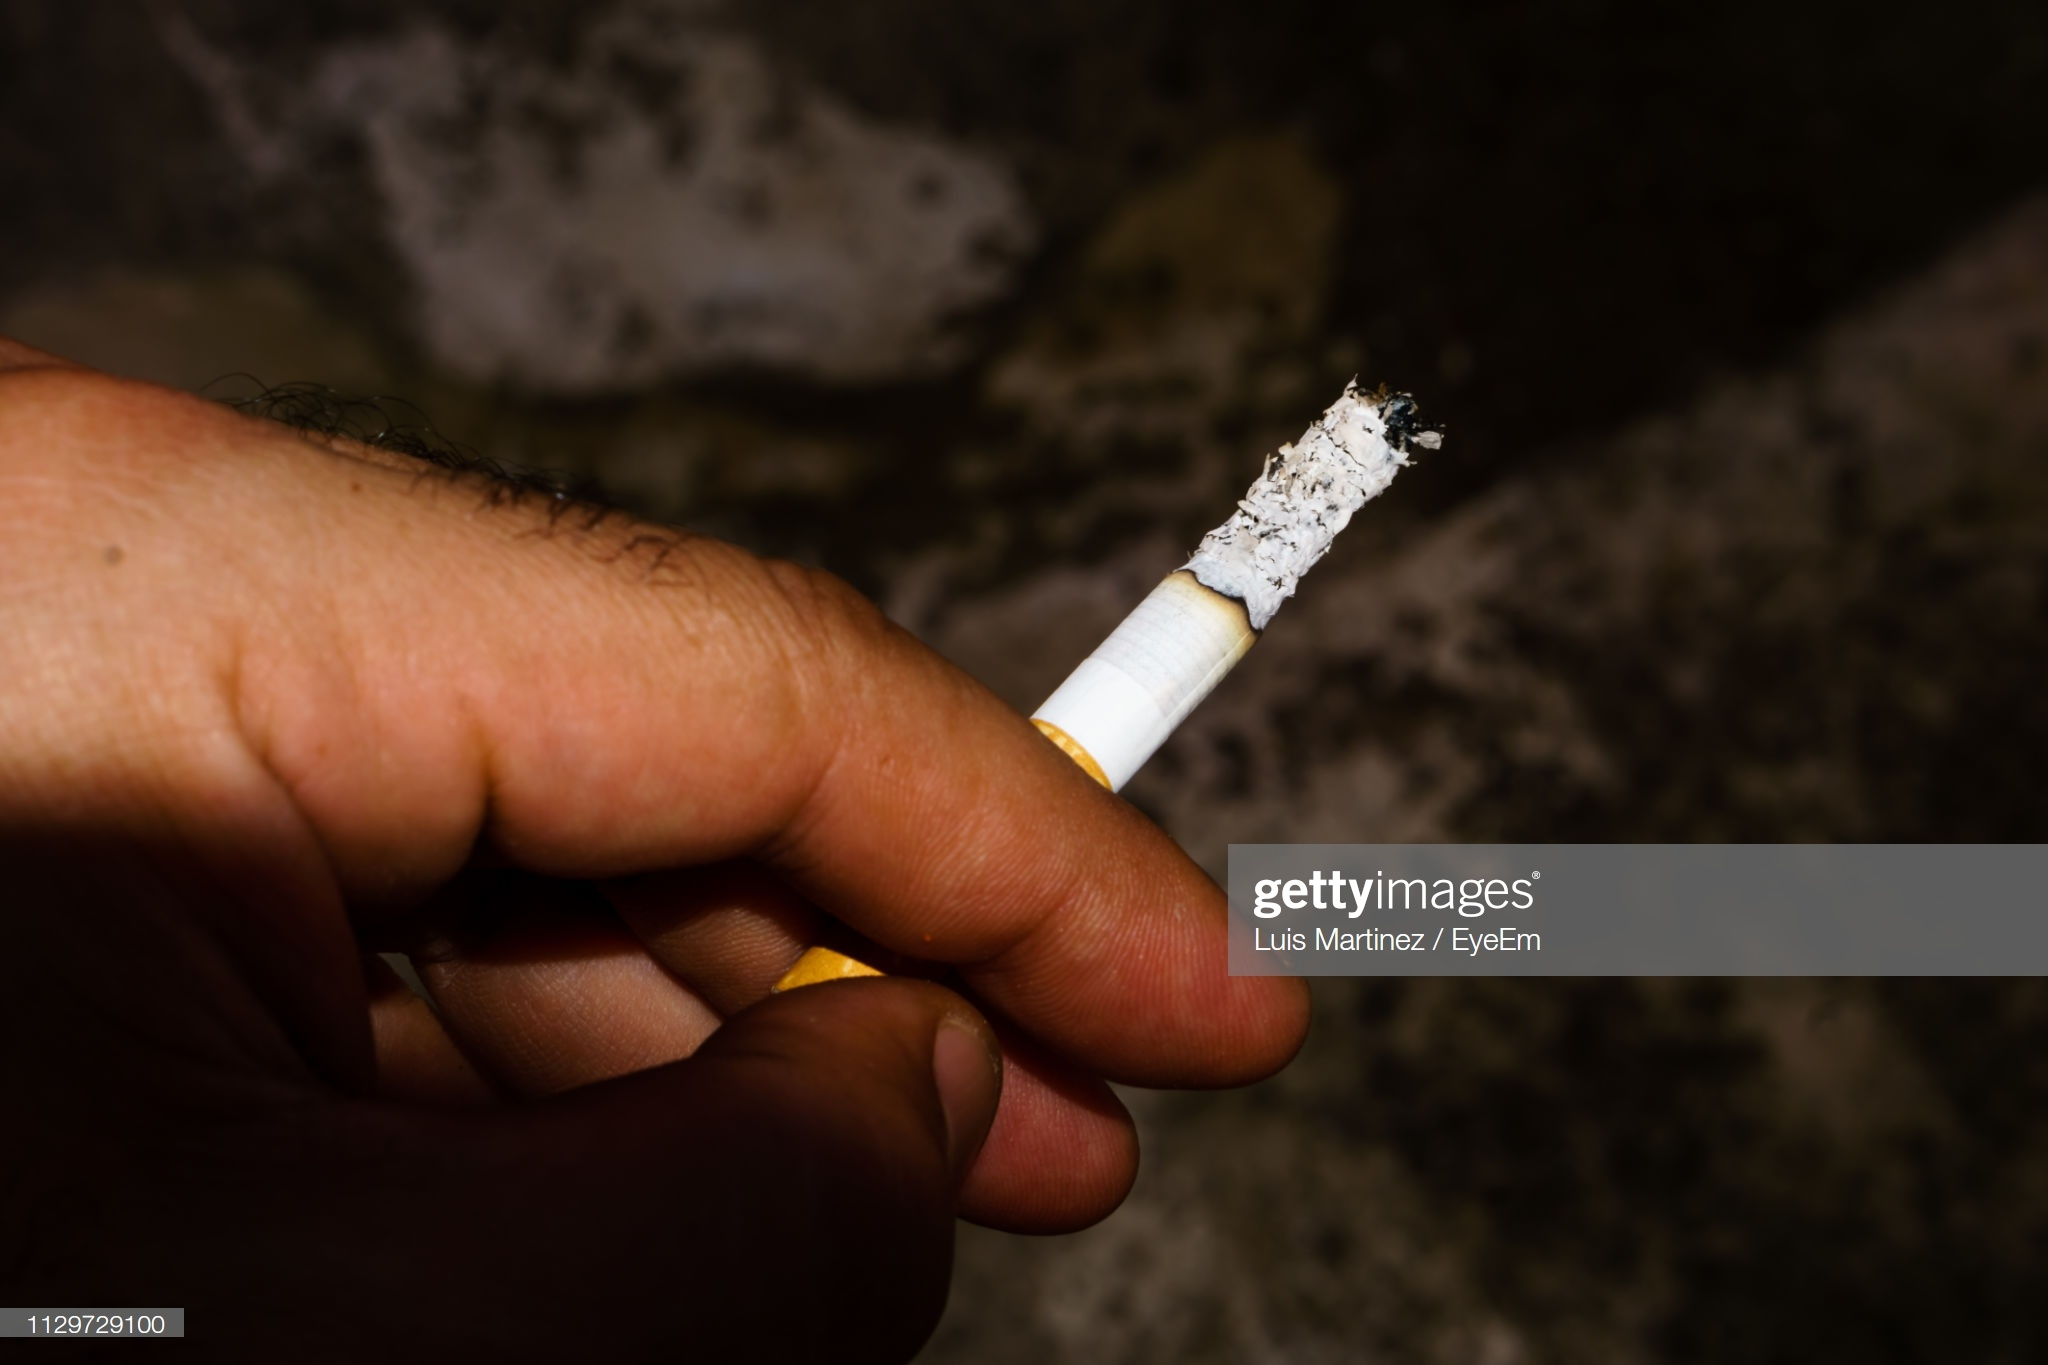sigaretta: (754, 388, 1440, 1004)
